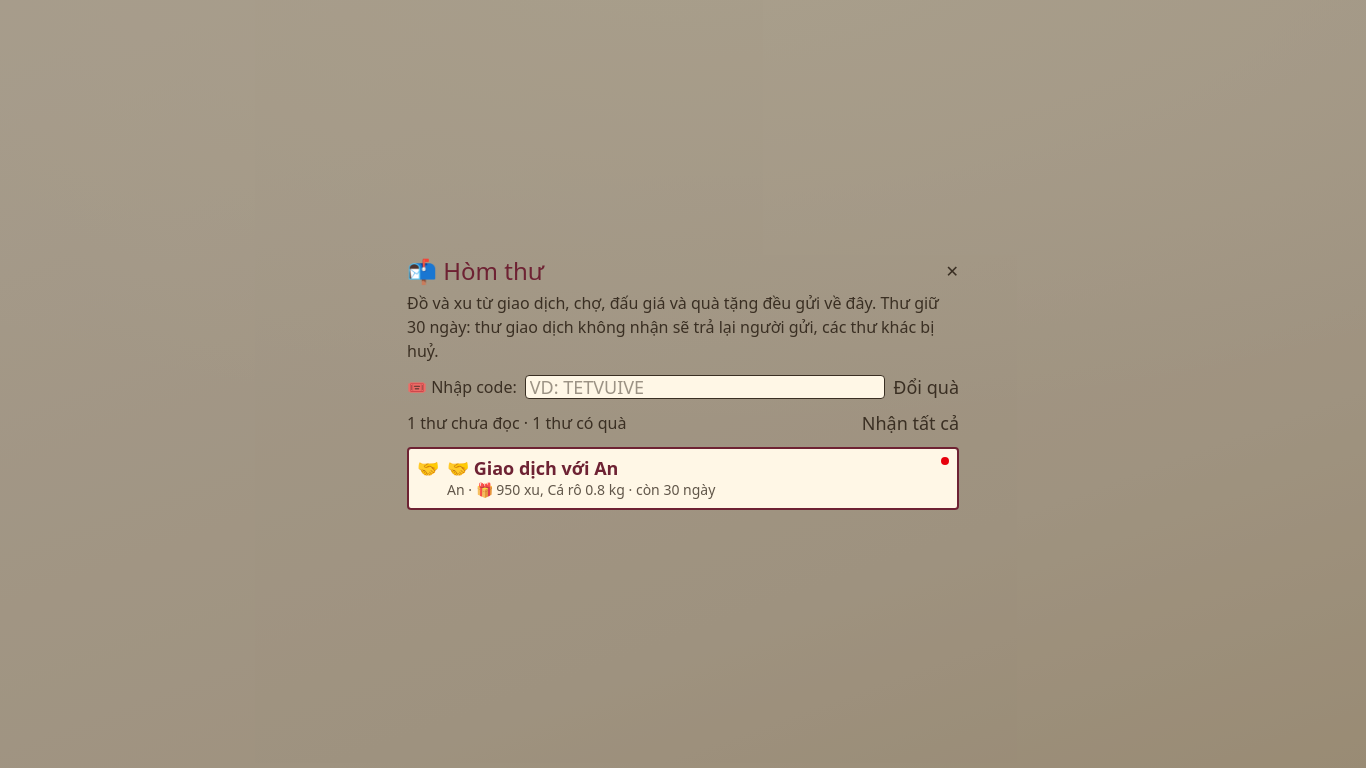
MailboxModal › shows a refused claim (the mail stays)
Click the text "🤝 Giao dịch với An": (533, 468) [447,456,618,480]
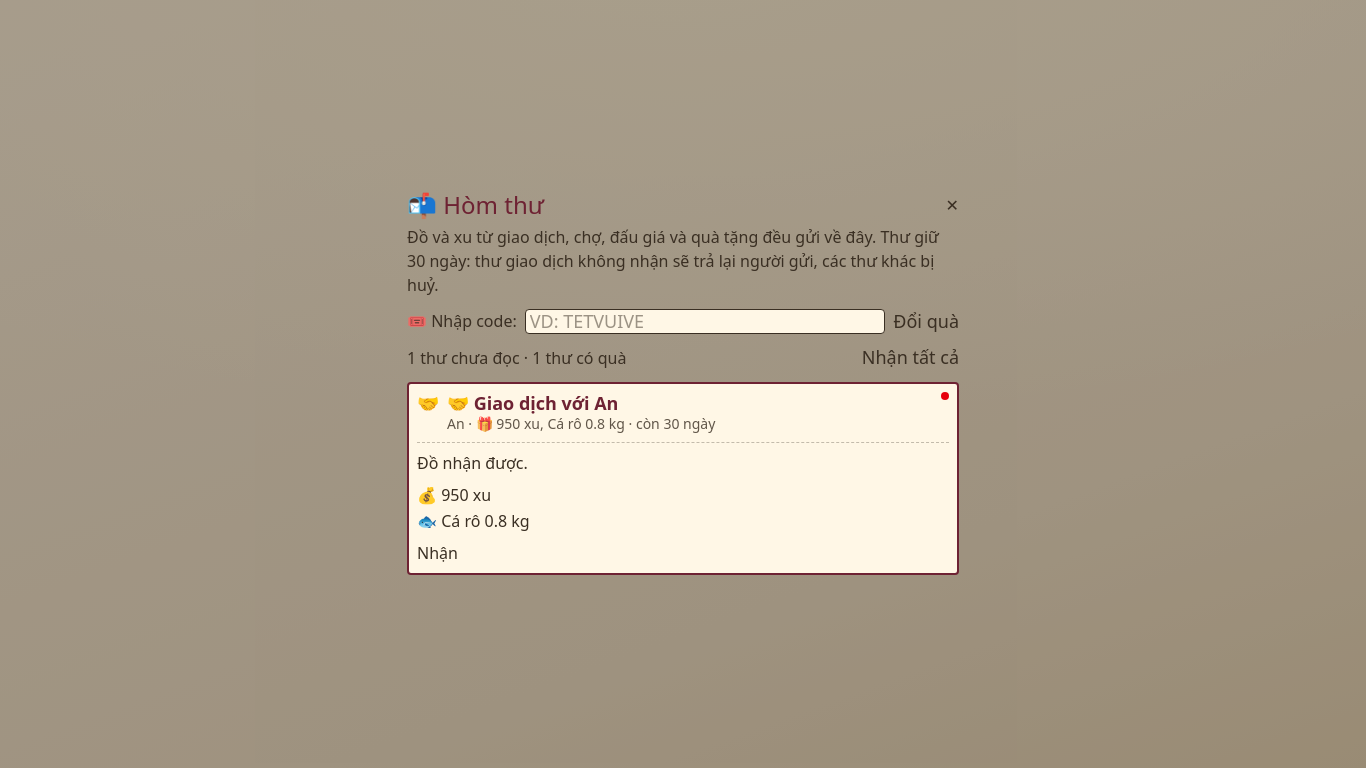
Click the button "Nhận": (437, 553) [417,541,458,565]
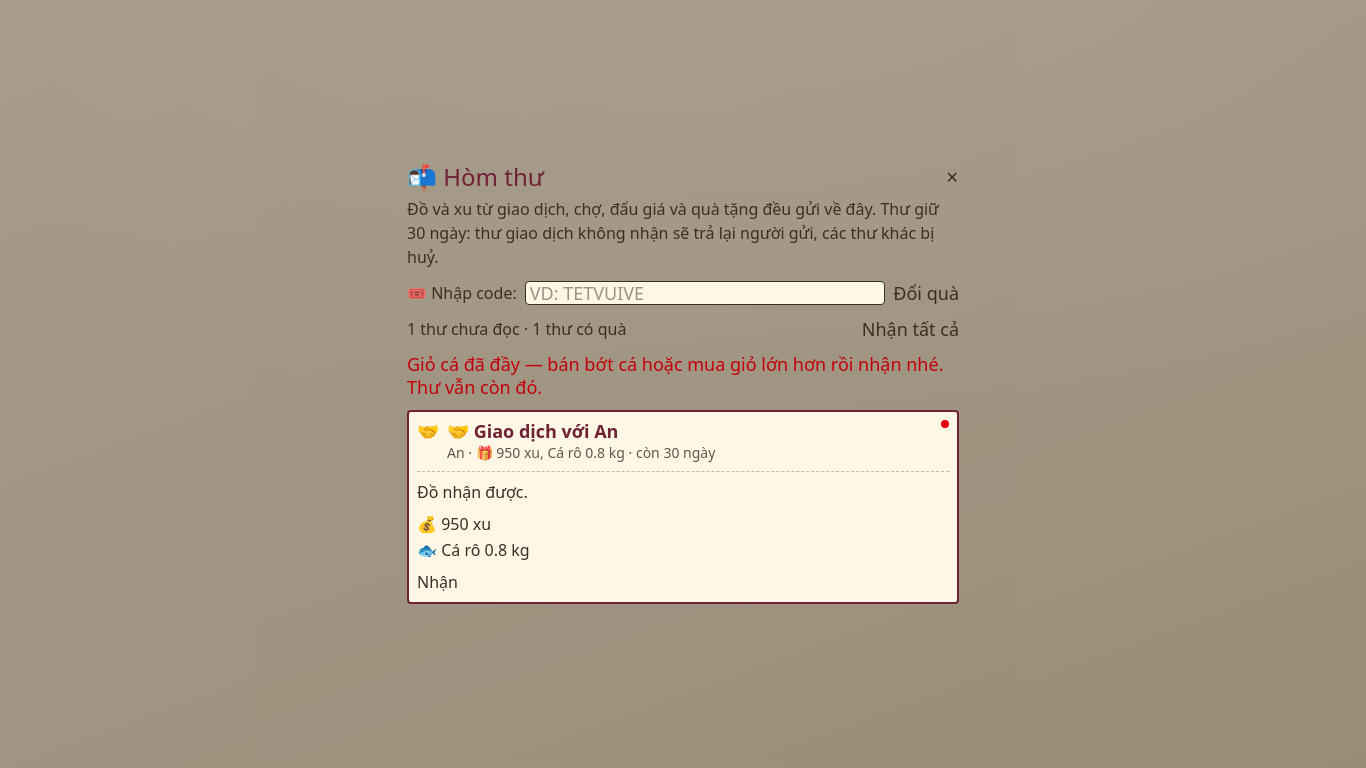
Now the message shows "Giỏ cá đã đầy", box [407,352,944,398]
